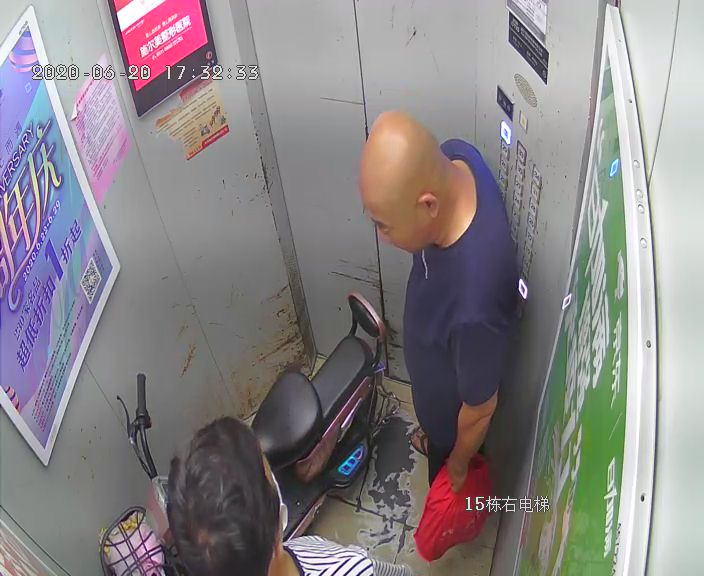Electric-bicycle: (106, 293, 383, 573)
